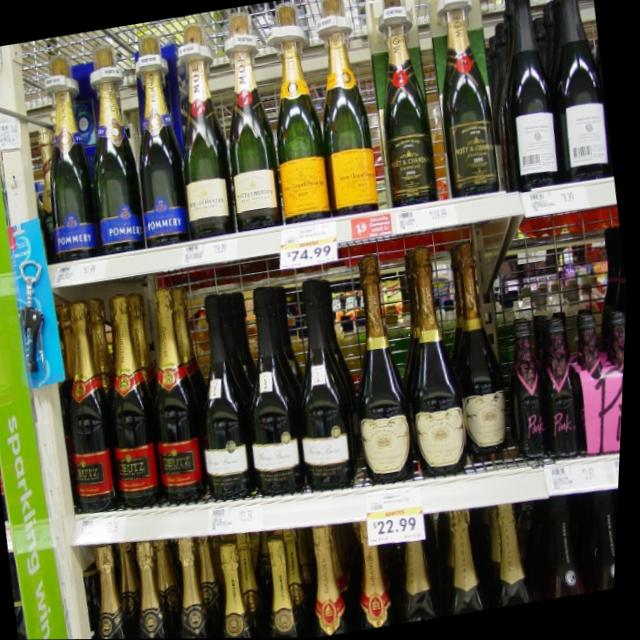q202: (92, 284, 171, 511), (52, 296, 132, 516), (134, 293, 215, 493)
